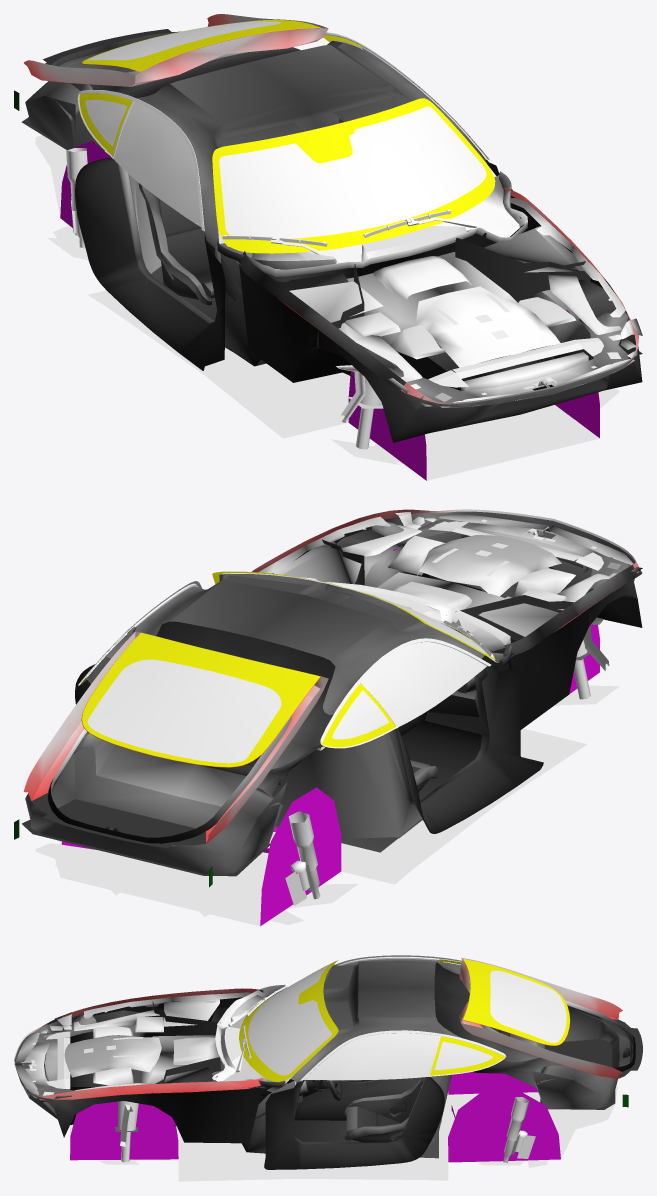
The model's file is Car_MercedesBenz_AMGGTR_2017.fbx.
The picture shows the model from 3 angles, top to bottom: view 1: azimuth 30°, elevation 25°; view 2: azimuth 150°, elevation 25°; view 3: azimuth 270°, elevation 25°; orthographic projection. The views are drawn at different scales.
Visible parts, largest first — view 1: Chassis 6, Interior 5, Glass 6, DoorR_Glass 4, Boot_Glass 4; view 2: Chassis 6, Interior 5, Boot_Glass 4, DoorR_Glass 4, Glass 6; view 3: Chassis 6, Interior 5, Glass 6, Boot_Glass 4, DoorL_Glass 4.
Boxes of the visible parts, <box> form: Chassis 6: <box>14,14,642,480</box>; Interior 5: <box>75,42,512,370</box>; Glass 6: <box>79,35,495,253</box>; DoorR_Glass 4: <box>113,101,200,223</box>; Boot_Glass 4: <box>82,19,320,71</box>; Chassis 6: <box>14,509,642,926</box>; Interior 5: <box>75,574,543,852</box>; Boot_Glass 4: <box>81,632,320,767</box>; DoorR_Glass 4: <box>362,642,483,726</box>; Glass 6: <box>79,571,495,747</box>; Chassis 6: <box>14,955,642,1181</box>; Interior 5: <box>242,957,460,1169</box>; Glass 6: <box>239,959,504,1081</box>; Boot_Glass 4: <box>462,959,570,1045</box>; DoorL_Glass 4: <box>306,1033,438,1080</box>.
Size of the model in its own units: 1.9 by 1.14 by 4.36.
